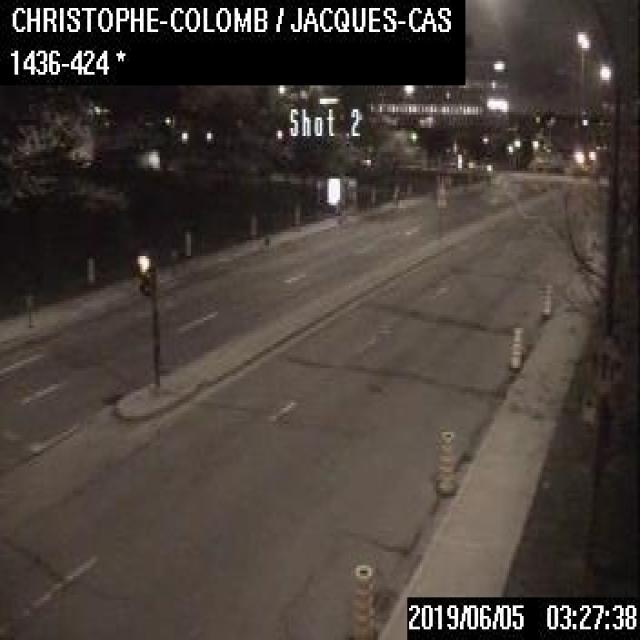construction: (348, 560, 378, 638), (434, 427, 457, 494), (507, 322, 523, 370), (539, 280, 553, 318), (85, 253, 94, 286), (183, 230, 191, 256), (249, 214, 256, 236), (293, 203, 300, 224)
